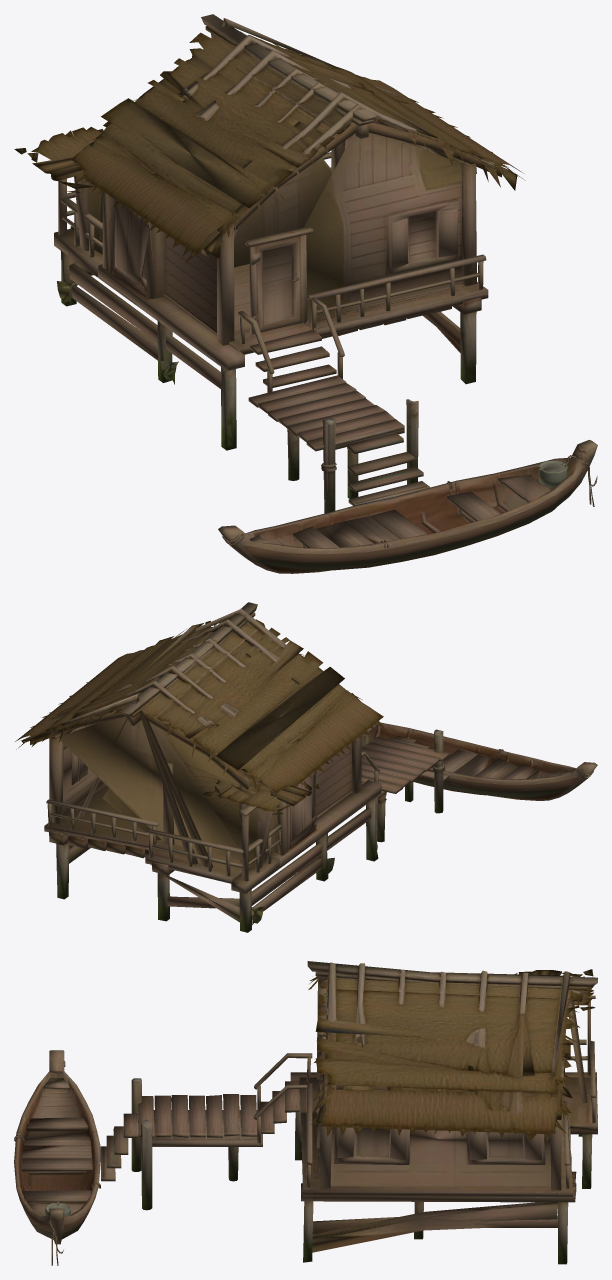
The model's file is 019e3f0b-b59c-7ac8-90df-56a8818dcb22.glb.
3 renders of one model, top to bottom at view 1: azimuth 30°, elevation 25°; view 2: azimuth 150°, elevation 25°; view 3: azimuth 270°, elevation 25°, orthographic. The views are drawn at different scales.
Parts seen in each view (by area): view 1: tripo_node_5ad85e83-5d81-4c81-9811-32655f673a31; view 2: tripo_node_5ad85e83-5d81-4c81-9811-32655f673a31; view 3: tripo_node_5ad85e83-5d81-4c81-9811-32655f673a31.
Part boxes in pixels (left/top/right/bottom): tripo_node_5ad85e83-5d81-4c81-9811-32655f673a31: left=14, top=14, right=597, bottom=573; tripo_node_5ad85e83-5d81-4c81-9811-32655f673a31: left=15, top=602, right=597, bottom=932; tripo_node_5ad85e83-5d81-4c81-9811-32655f673a31: left=14, top=961, right=597, bottom=1265.
Size of the model in its own units: 0.8027 by 0.5215 by 0.998.
Materials: 1 (1 with a texture image).
